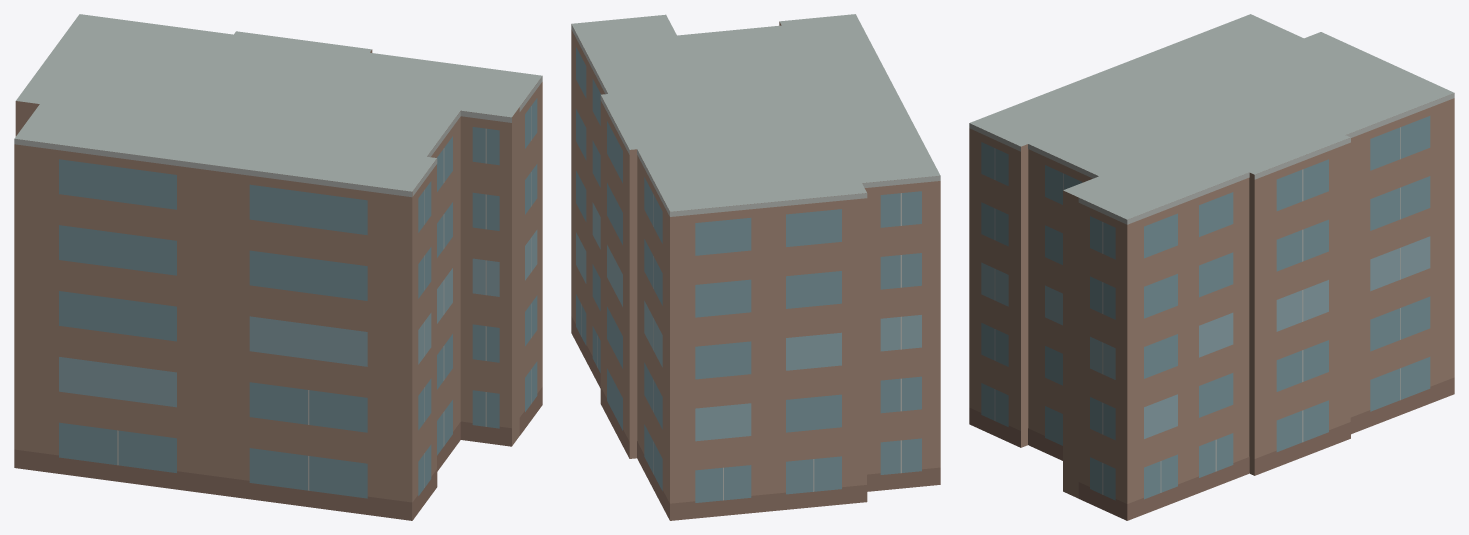
The model's file is survey-upis-32592807.glb.
The picture shows the model from 3 angles, left to right: view 1: azimuth 30°, elevation 25°; view 2: azimuth 150°, elevation 25°; view 3: azimuth 270°, elevation 25°; orthographic projection. The views are drawn at different scales.
Parts seen in each view (by area): view 1: survey-upis-32592807.tmp; view 2: survey-upis-32592807.tmp; view 3: survey-upis-32592807.tmp.
Part boxes in pixels (box(x1,y1,x2,y2)): survey-upis-32592807.tmp: box(14, 14, 542, 520); survey-upis-32592807.tmp: box(571, 14, 940, 520); survey-upis-32592807.tmp: box(969, 14, 1454, 520).
Bounding box in the file's own units: 21.1 × 14.4 × 21.04.
